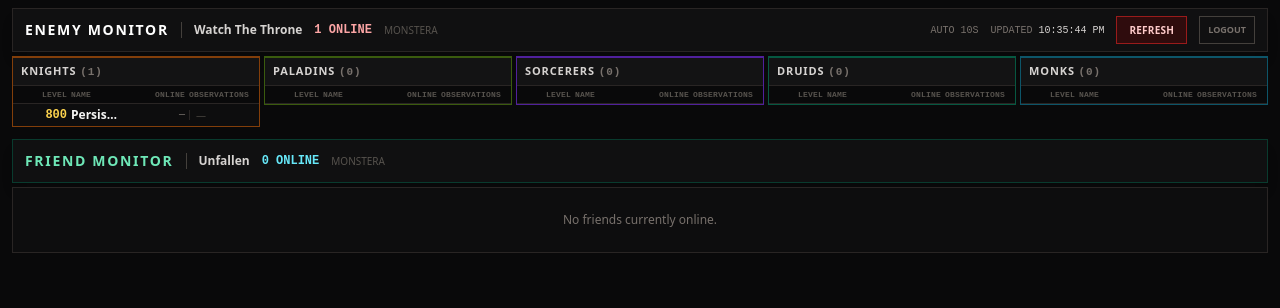
keeps the previous successful results when a refresh temporarily fails
Expected: the button "Persistent Enemy" is shown, x1=71 y1=109 x2=121 y2=121
Click the button "Refresh" at (1152, 30), box x1=1116 y1=16 x2=1187 y2=44
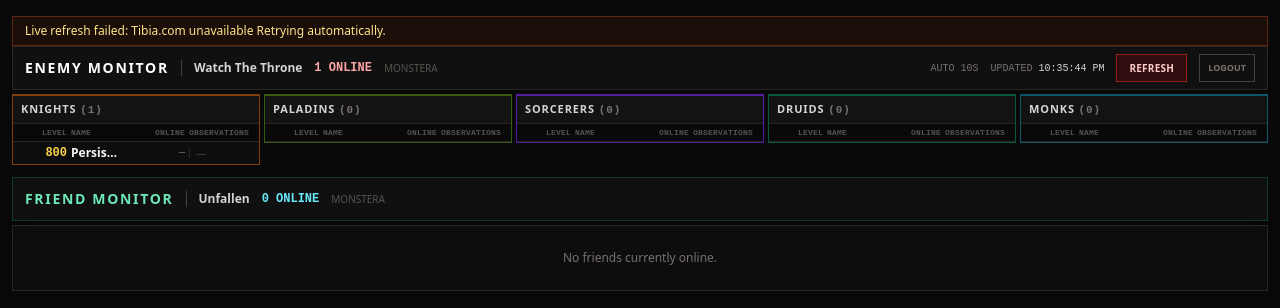
Expected: the button "Persistent Enemy" is shown, x1=71 y1=147 x2=121 y2=159
Expected: the message shows "Live refresh failed", x1=25 y1=22 x2=386 y2=39
